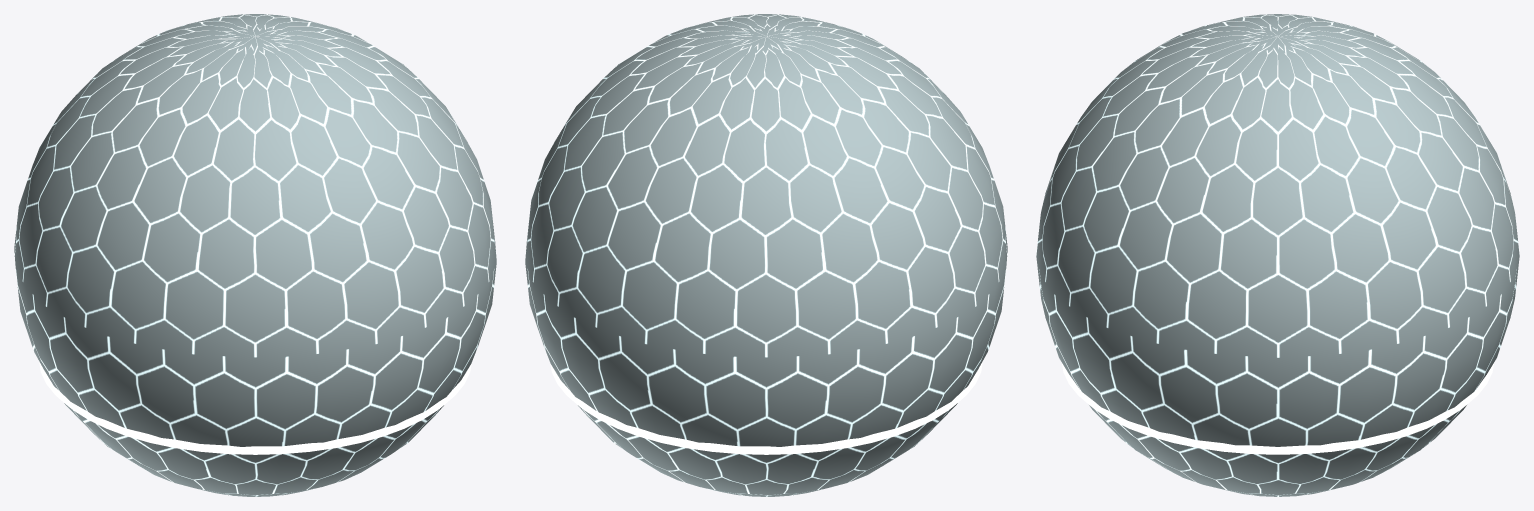
File: kb_shell_safe.glb
3 renders of one model, left to right at view 1: azimuth 30°, elevation 25°; view 2: azimuth 150°, elevation 25°; view 3: azimuth 270°, elevation 25°, orthographic.
Visible parts, largest first — view 1: skin; view 2: skin; view 3: skin.
Part boxes in pixels (x1,y1,x2,y2): skin: (14,14,496,496); skin: (525,14,1007,496); skin: (1036,14,1519,496).
Size of the model in its own units: 2.3 by 2.3 by 2.3.
